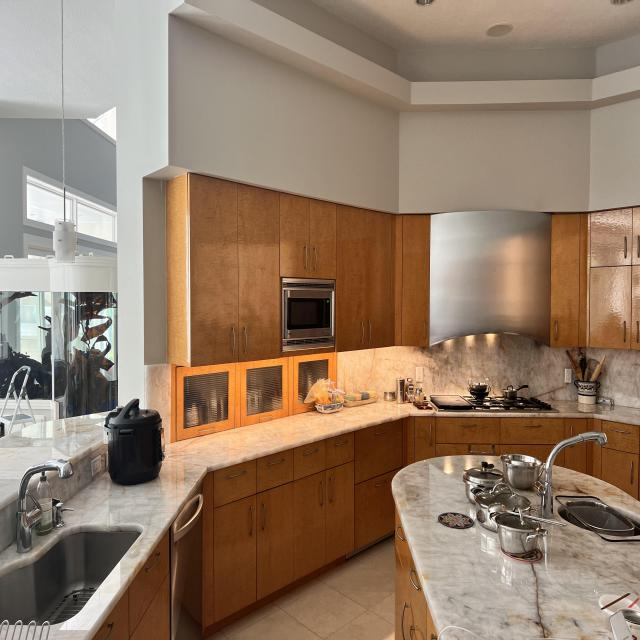Appliance_Microwave: (279, 277, 338, 354)
Appliance_Sink: (0, 460, 143, 625), (542, 432, 640, 542)
Appliance_Stove: (431, 395, 552, 410)
Cabinet_Glass: (170, 353, 336, 443)
Cabinet_Inset: (200, 417, 640, 640), (190, 175, 430, 366), (549, 206, 640, 352), (91, 527, 173, 640)
Countertop_Marble: (0, 399, 640, 640), (392, 455, 640, 640)
